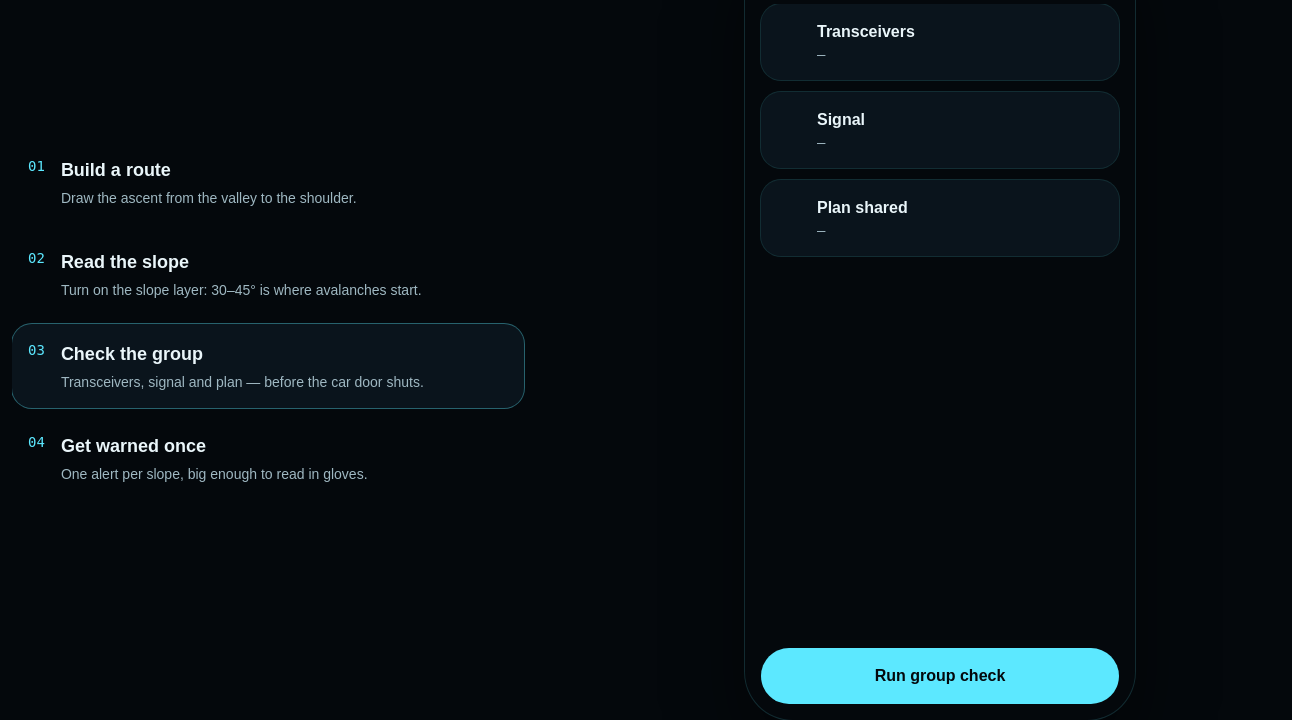
Test: Prototype › app (non-figure) variant keeps the live alert role for a failed group check
(page scrolled)
Click the button "Run group check" at (940,676), box [761, 648, 1119, 704]
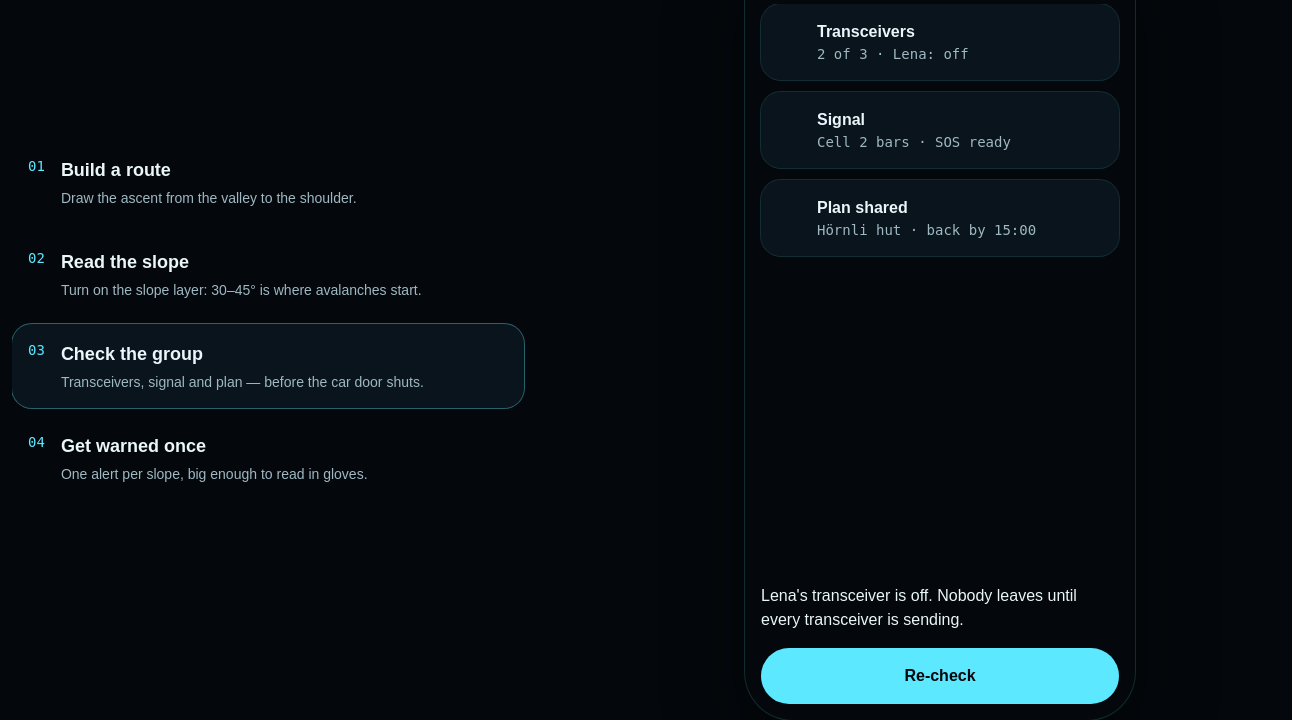
Expected: the message shows "Lena", [761, 587, 928, 604]
